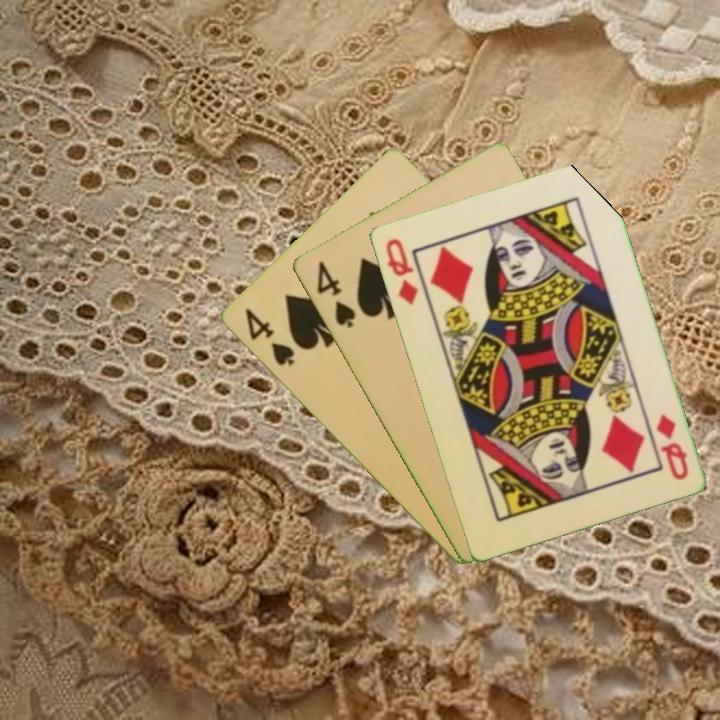4s: (240, 304, 297, 369), (312, 257, 358, 331)
Qd: (651, 410, 691, 483), (381, 234, 420, 308)
